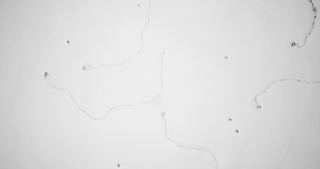germinated: (253, 99, 263, 110), (42, 71, 49, 81), (80, 62, 88, 70), (290, 40, 299, 47), (160, 110, 166, 118)
nongerminated: (115, 161, 123, 168), (227, 116, 234, 122), (233, 128, 240, 134), (223, 54, 230, 60), (65, 39, 72, 45)
